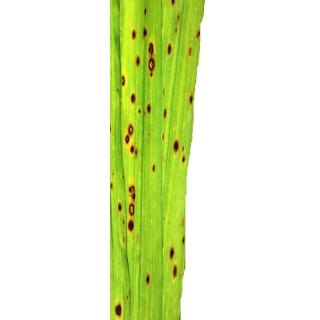bercak-Cokelat: (114, 178, 140, 236), (113, 117, 143, 166), (162, 0, 182, 58), (163, 243, 182, 285), (170, 135, 188, 169), (142, 36, 158, 74), (145, 100, 169, 120), (186, 26, 200, 60), (108, 298, 126, 318), (115, 72, 129, 93), (138, 271, 156, 287), (129, 92, 139, 108), (128, 23, 136, 41), (188, 91, 194, 107)
